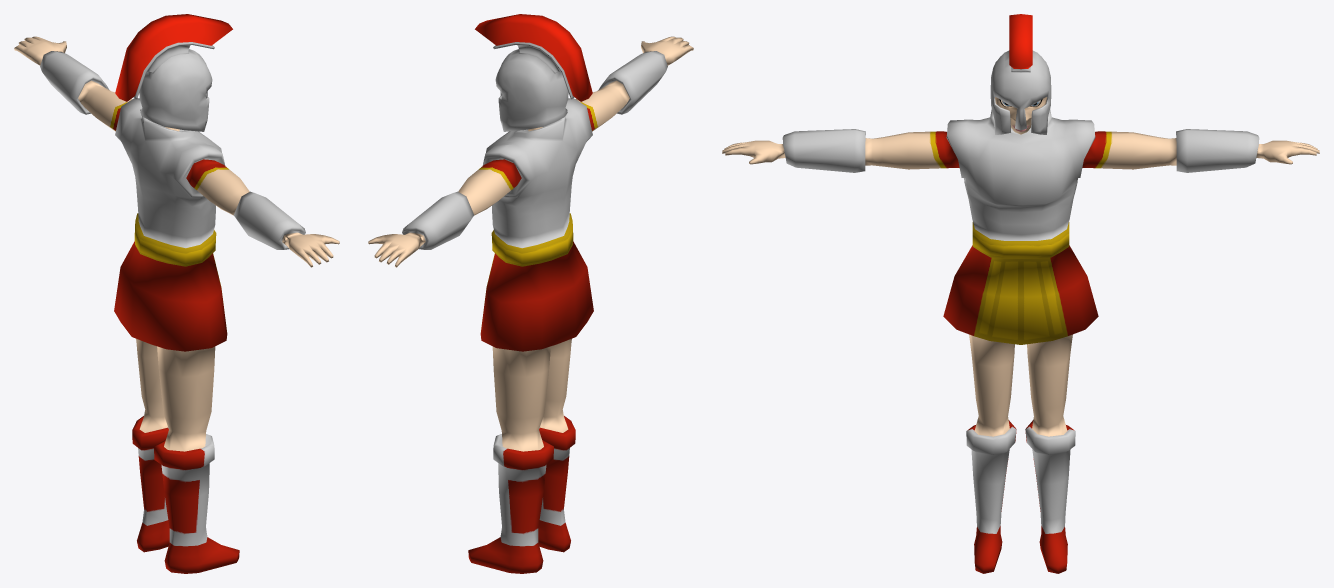
Rendered from player_model.obj.
3 views of the same model, side by side, from view 1: azimuth 30°, elevation 25°; view 2: azimuth 150°, elevation 25°; view 3: azimuth 270°, elevation 25° (orthographic).
Parts seen in each view (by area): view 1: Body_Mesh.001_Sphere.000; view 2: Body_Mesh.001_Sphere.000; view 3: Body_Mesh.001_Sphere.000.
Part boxes in pixels (bbox=[...]): Body_Mesh.001_Sphere.000: bbox=[14, 14, 339, 573]; Body_Mesh.001_Sphere.000: bbox=[368, 14, 693, 573]; Body_Mesh.001_Sphere.000: bbox=[722, 14, 1319, 573].
Bounding box in the file's own units: 12.25 × 57.51 × 58.54.
